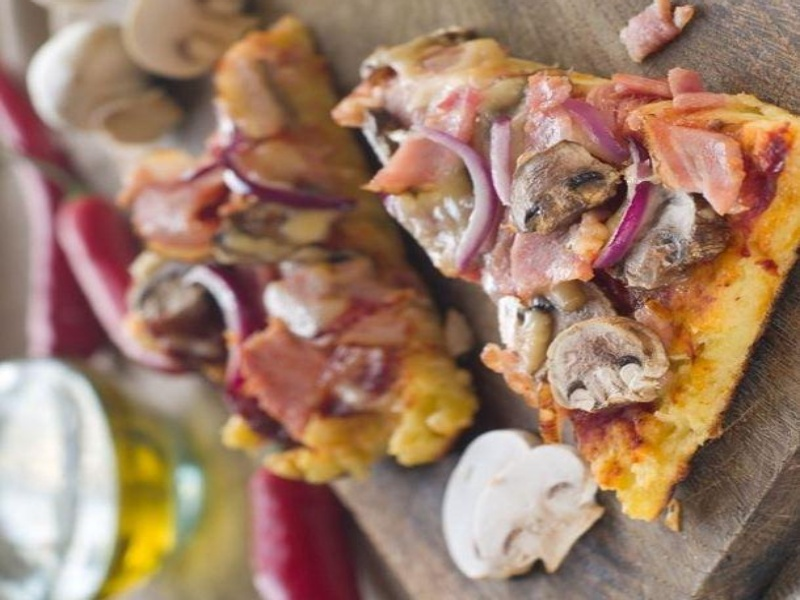champignon: (540, 313, 672, 412), (500, 140, 620, 232)
